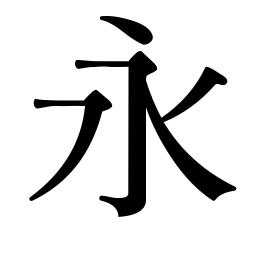D: (97, 13, 155, 46)
HSZ: (121, 49, 158, 90)
Hs: (73, 57, 107, 71)
Ne: (194, 170, 240, 205)
PNc: (151, 100, 181, 131)
PZe: (27, 182, 55, 204)
Ps: (195, 65, 231, 93)
SG: (96, 185, 150, 223)
Sm: (125, 131, 148, 157)
TPZ: (76, 87, 114, 140)
Ts: (31, 96, 59, 112)
